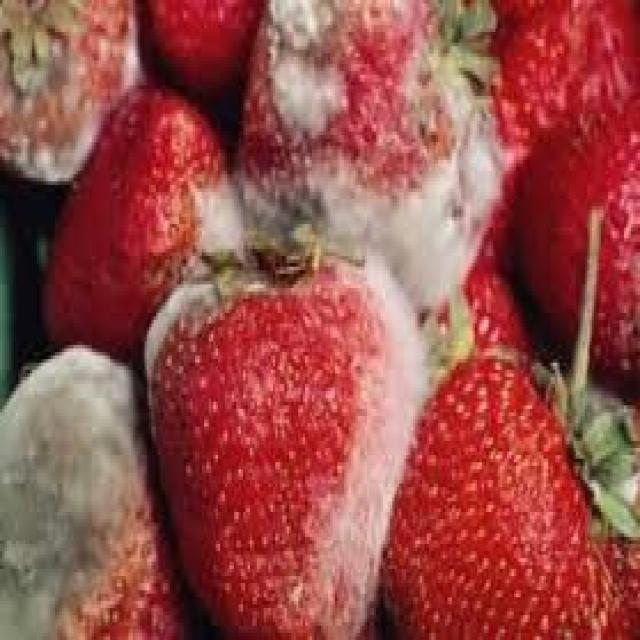biodegradable: (0, 0, 637, 636), (140, 224, 427, 636), (376, 199, 638, 637), (227, 0, 525, 320), (0, 342, 195, 637), (32, 79, 225, 342), (463, 0, 638, 256), (514, 92, 638, 402), (0, 0, 135, 170), (133, 0, 271, 121), (415, 253, 528, 363), (0, 174, 32, 395)
